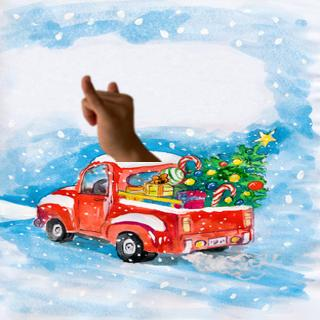HAVE: (75, 72, 147, 154)
